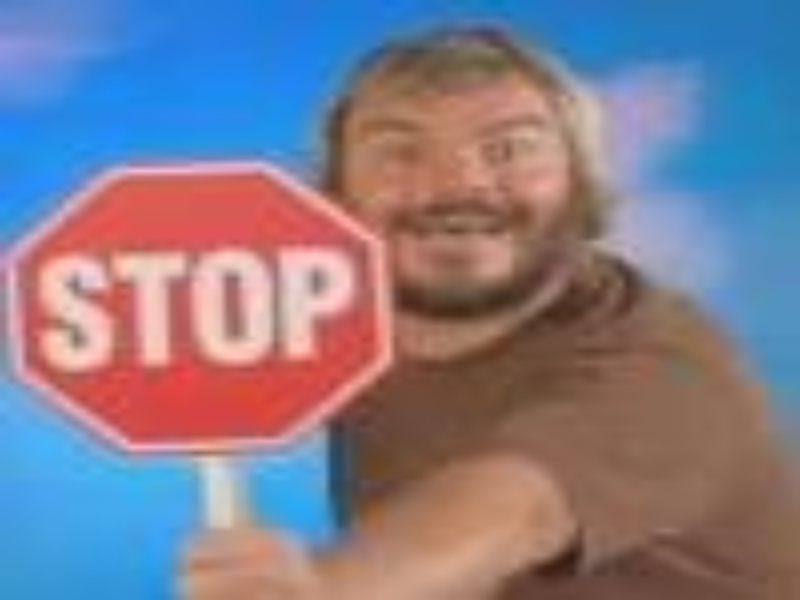Stop_Sign: (8, 161, 387, 454)
